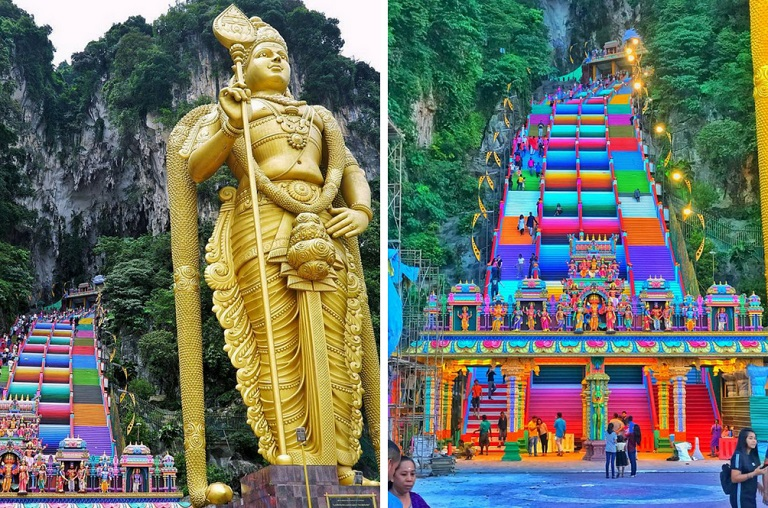Hindu Temple: (155, 3, 377, 481)
